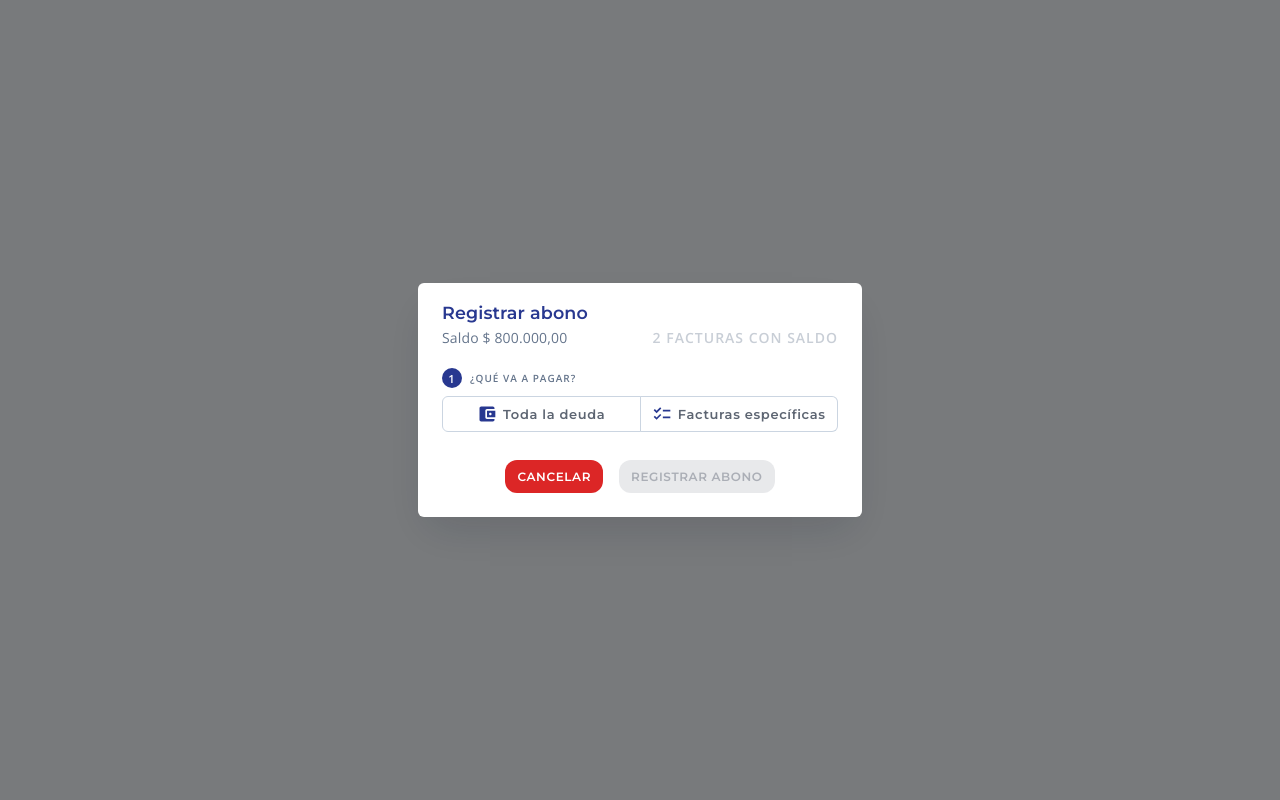
it: AbonoDialog › muestra el reparto antes de guardar: salda la más antigua y pasa el resto
Click the button "Toda la deuda".
click(541, 414)  # box [442, 396, 640, 432]
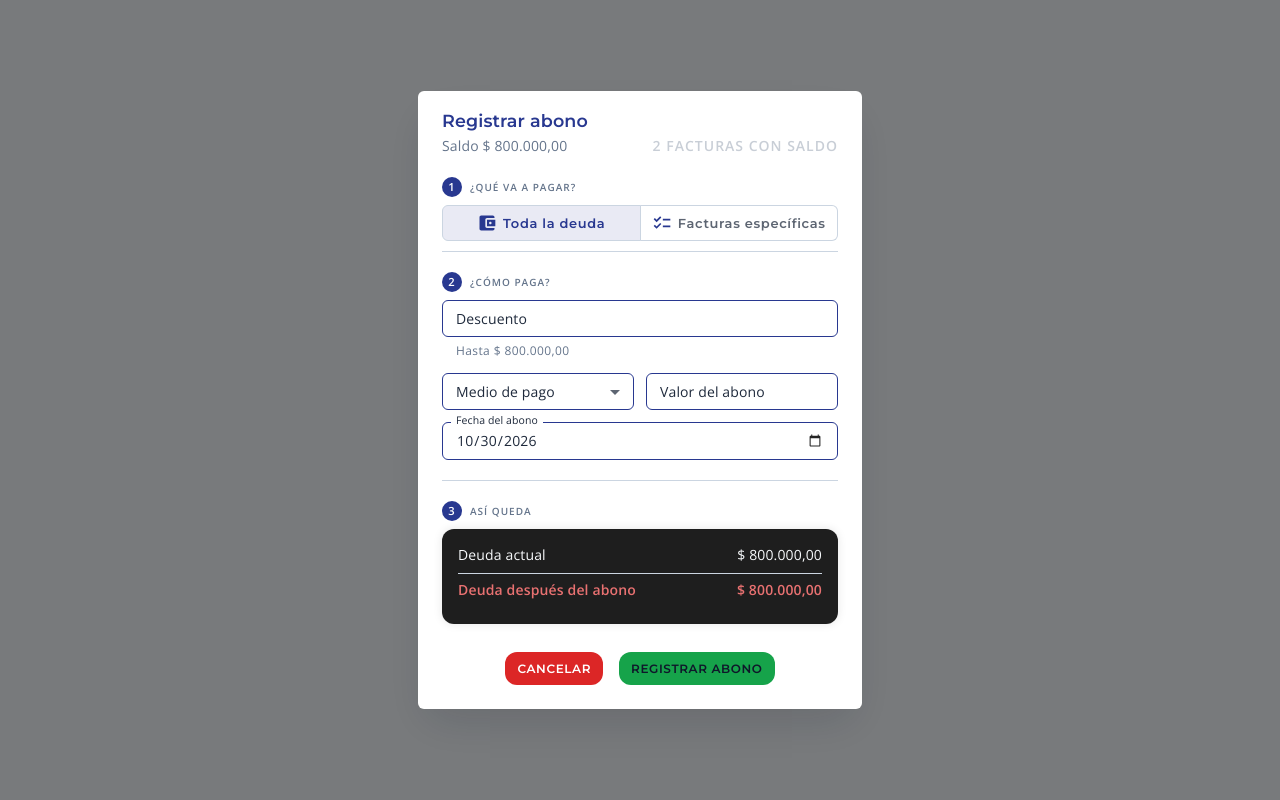
Type "600000" into the field labelled "Valor del abono".
click(742, 392); type("600000")  # box [646, 373, 838, 410]
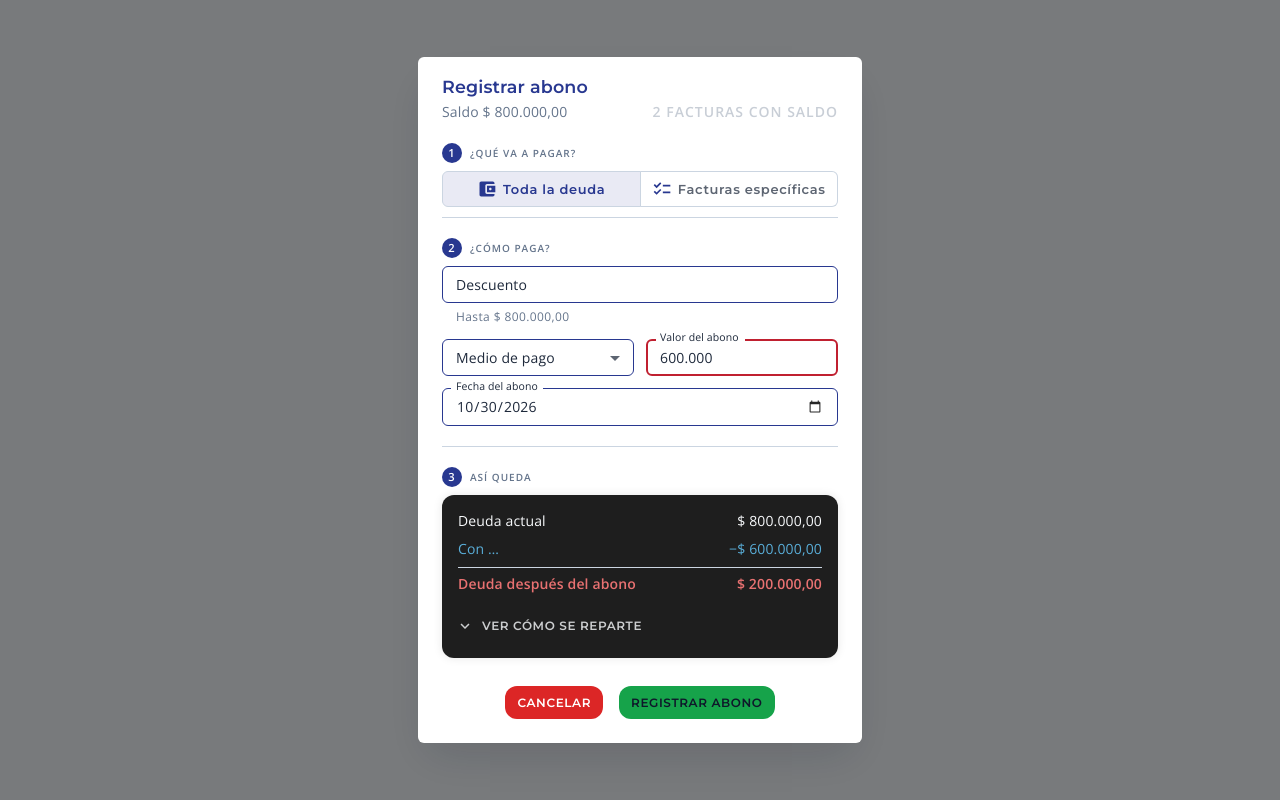
Expected: the text "Saldo $ 800.000,00" is shown, [442, 102, 567, 122]
Expected: the text "Deuda después del abono" is shown, [458, 574, 636, 594]
Click the button "Ver cómo se reparte".
click(550, 626)  # box [458, 610, 642, 642]
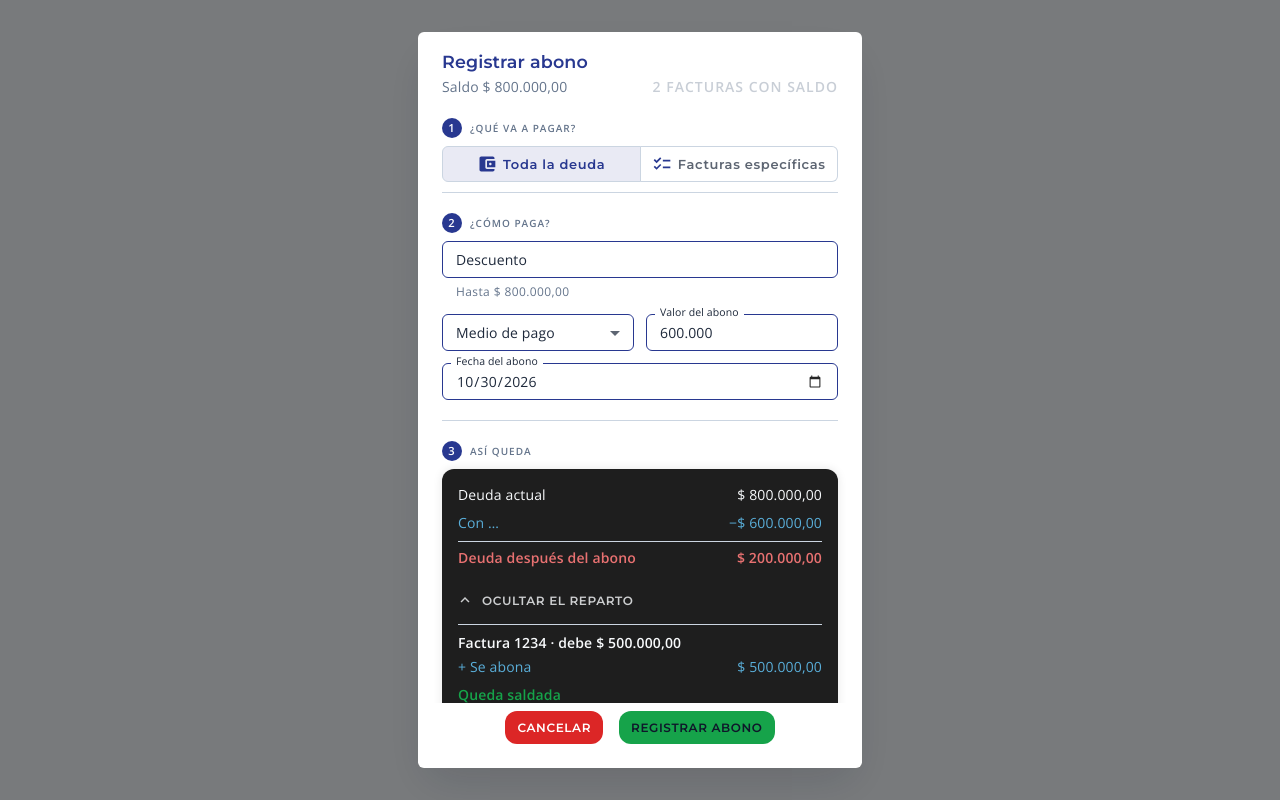
Expected: the text "Queda saldada" is shown, [458, 685, 561, 703]
Expected: the text "$ 200.000,00" is shown 2 times
